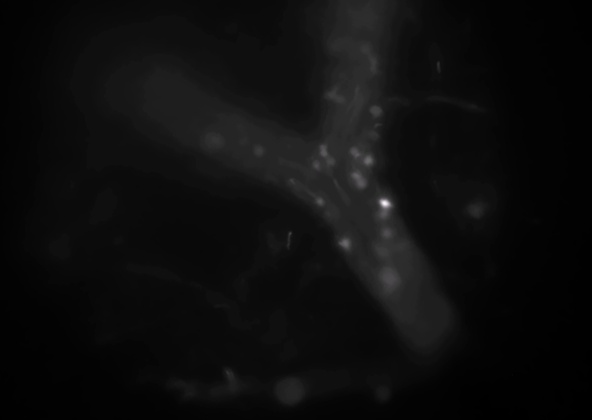cell: (377, 196, 391, 210), (368, 103, 382, 117), (349, 147, 363, 161), (361, 154, 375, 168), (315, 141, 329, 155), (310, 158, 324, 172), (324, 155, 338, 169), (326, 89, 340, 103), (350, 169, 364, 183), (331, 90, 345, 104), (353, 176, 367, 190), (339, 238, 353, 252), (382, 272, 396, 286), (379, 227, 393, 241), (377, 195, 391, 209), (375, 207, 389, 221), (377, 199, 391, 213), (313, 193, 327, 207), (286, 175, 300, 189), (251, 143, 265, 157), (207, 134, 221, 148), (358, 43, 372, 57), (366, 54, 380, 68), (333, 38, 347, 52), (316, 146, 330, 160), (367, 129, 381, 143)
